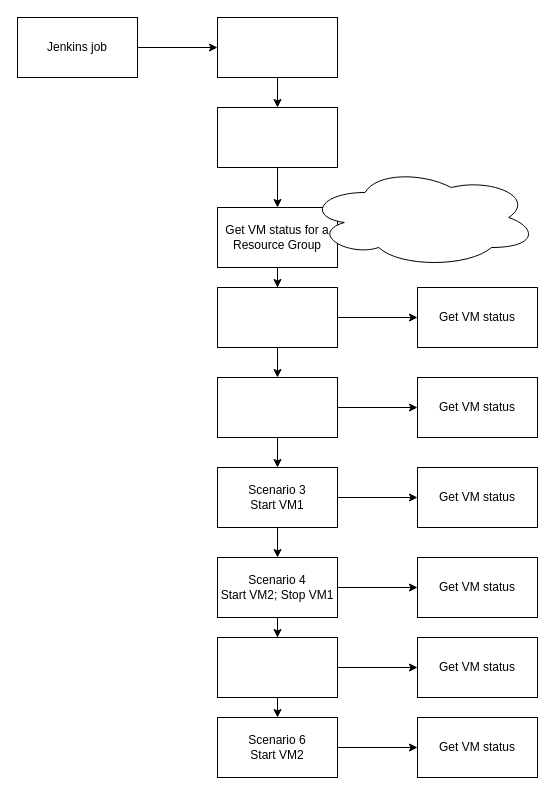
Some shapes in this 555 by 795 pixel diagram are drawn without their labels. Here are the shapes that lost their labels. From the top down, the centre of each, then its label:
(277,47): Powershell/Bash
(277,137): Connect to Azure
(422,217): Resource Group has 2 VMs in started status- VM1 & VM2
(277,317): Scenario 1 Stop VM1
(277,407): Scenario 2 Stop VM2
(277,667): Scenario 5 Start VM1; Stop VM2
